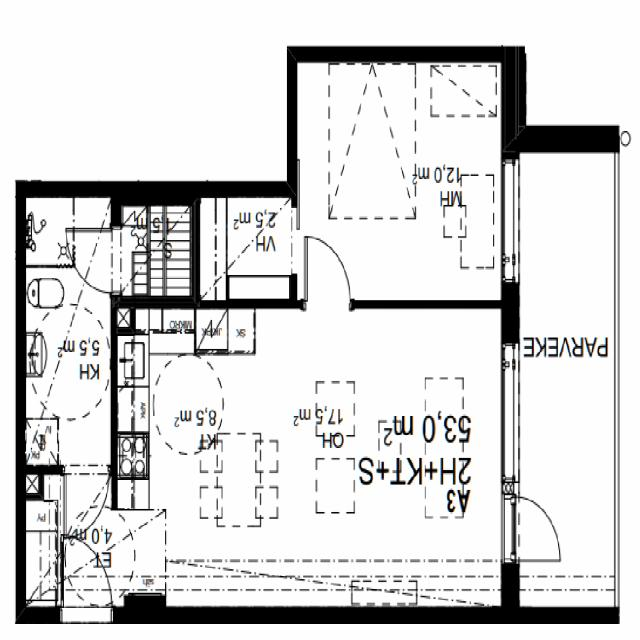door: (62, 538, 111, 624), (502, 497, 566, 562), (68, 231, 121, 292), (66, 466, 109, 536), (308, 238, 350, 308)
